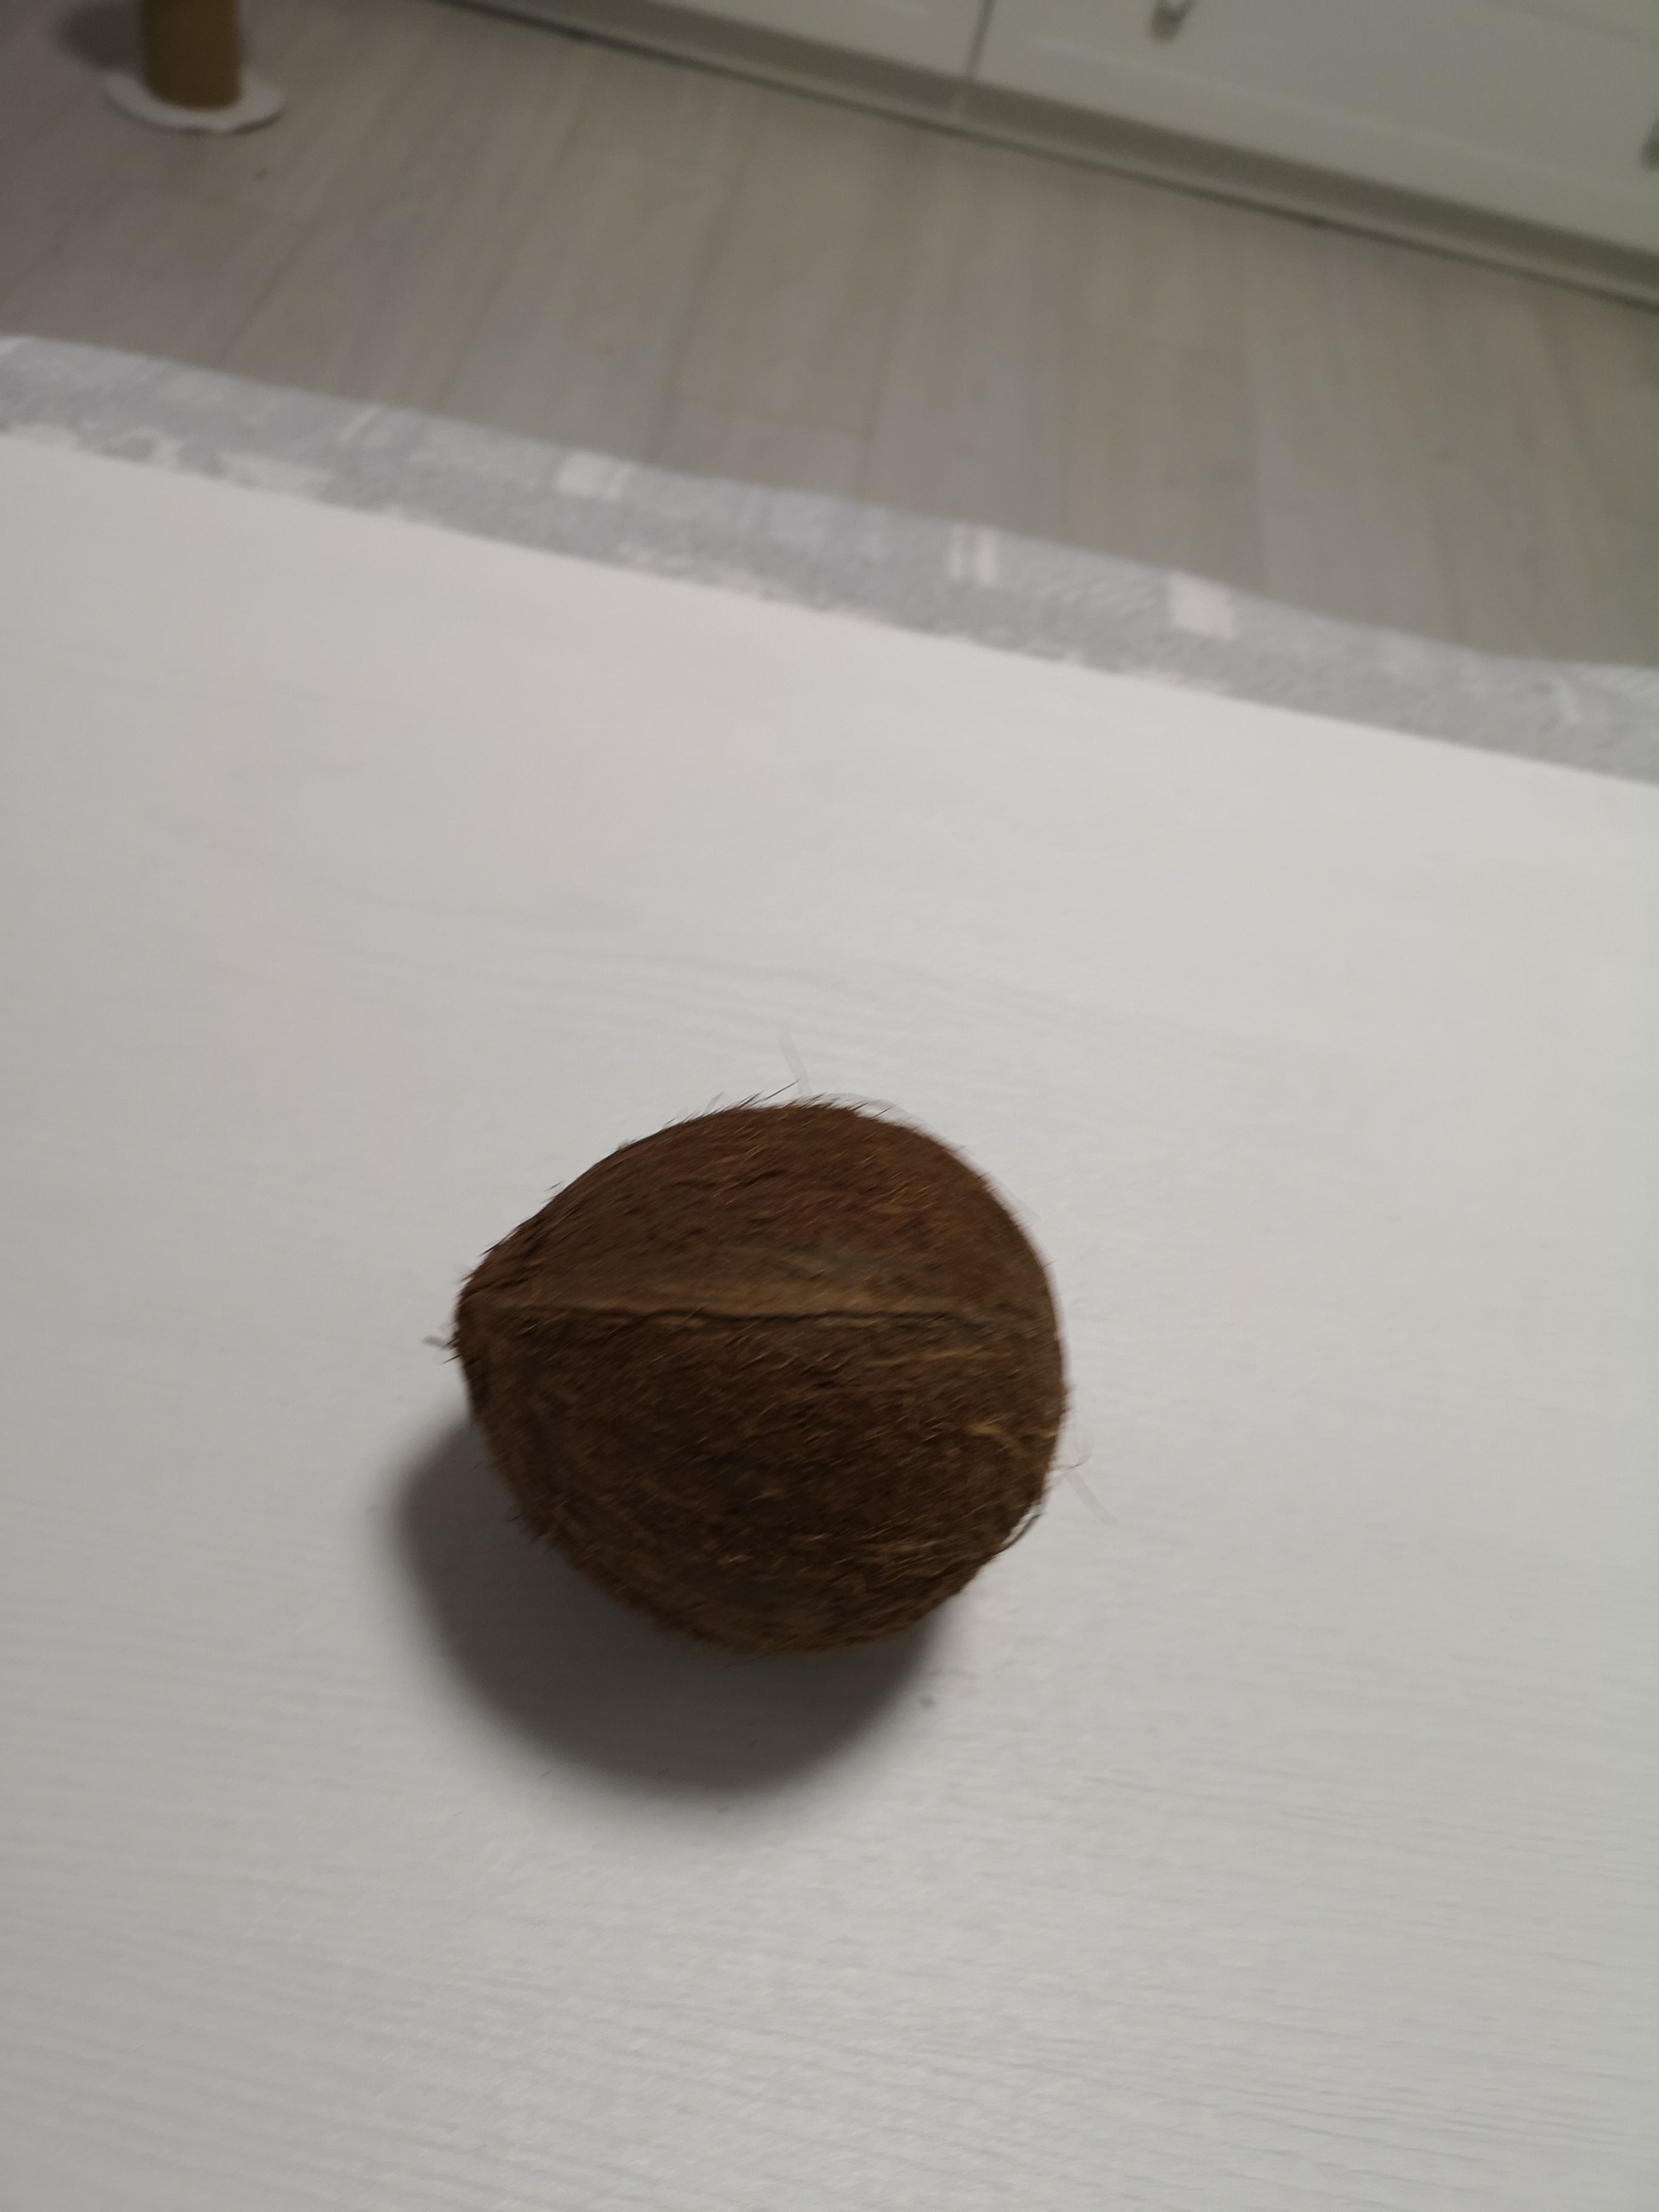coconut: (453, 1075, 1082, 1679)
